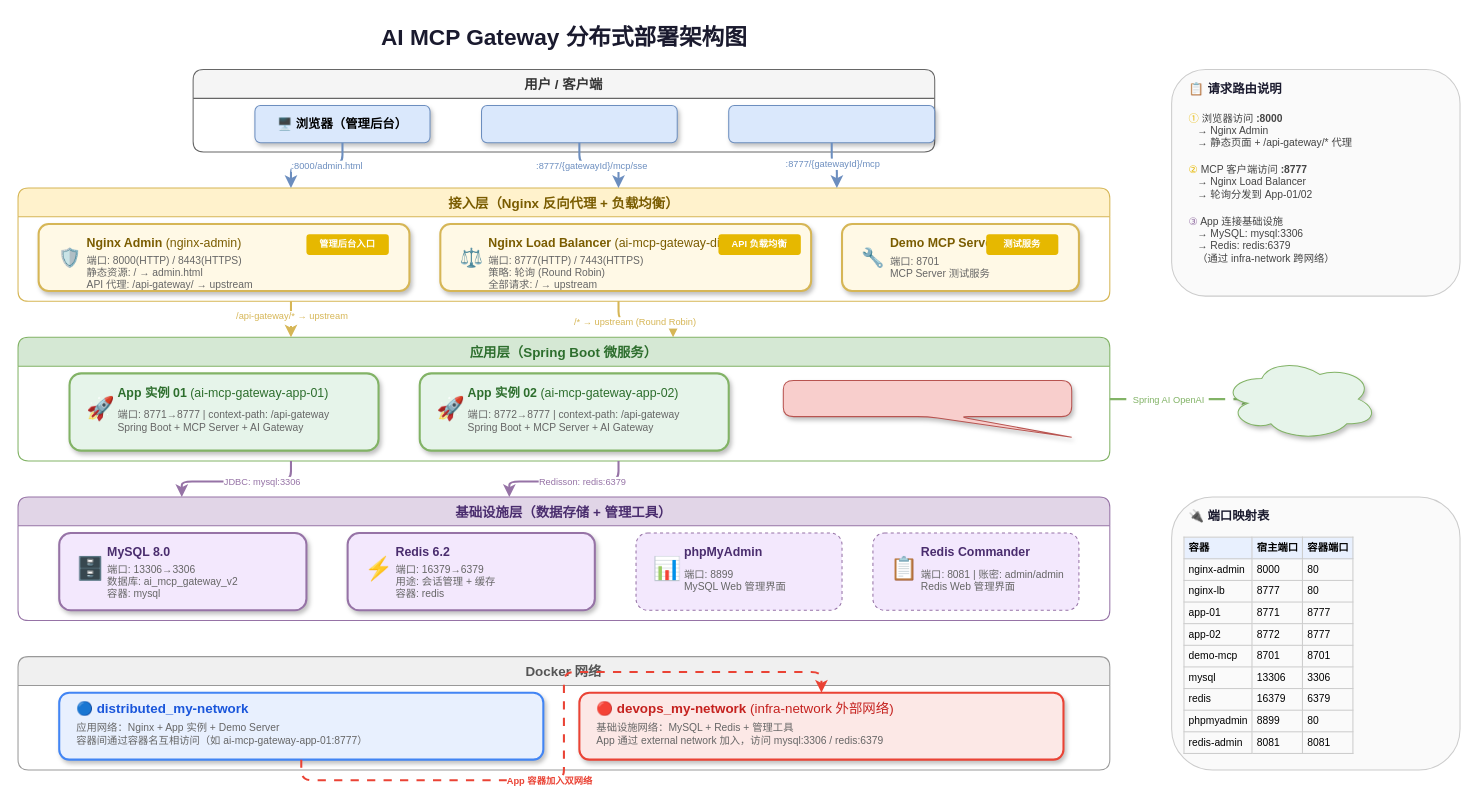
This 1478x806 diagram has some shape labels left out. Each missing label, with the centre of its shape:
"☁️ OpenAI API gpt-4o api.openai.com" goes at point 1301,400.
"⬆ upstream: ai-mcp-gateway-backend 轮询策略: weight=1 (均分流量)" goes at point 928,409.
"🔗 API 客户端（MCP/SSE）" goes at point 579,125.
"🤖 LLM 应用（Cursor/Cline）" goes at point 832,125.
